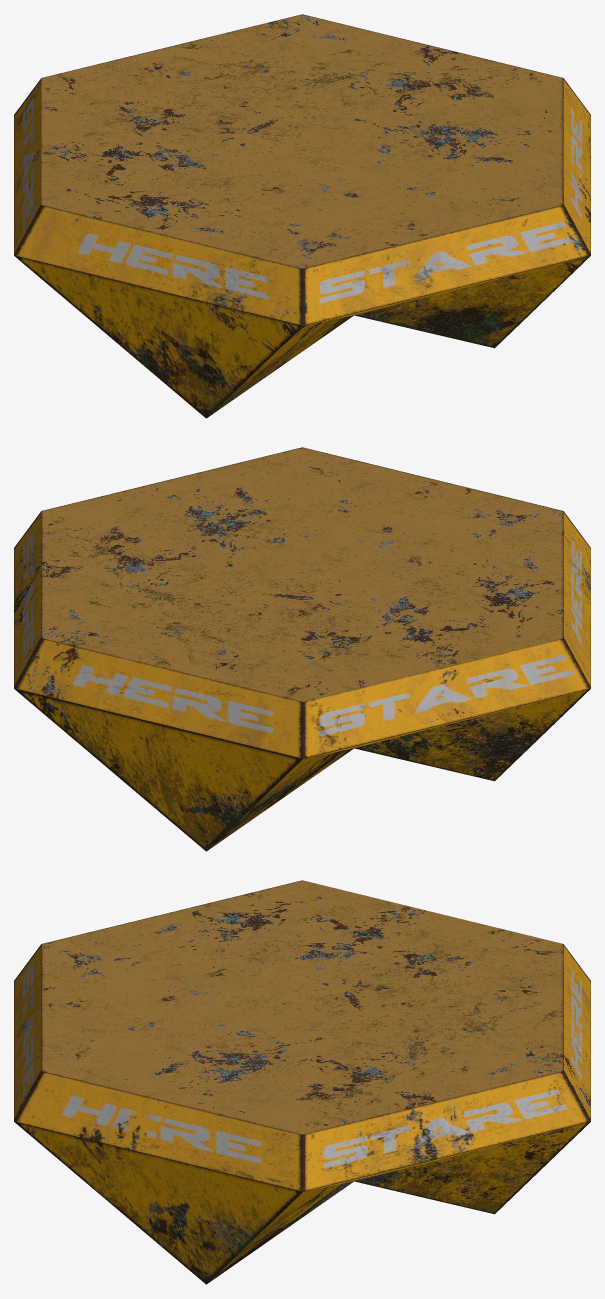
Rendered from TeleportGem2.gltf.
3 renders of one model, top to bottom at view 1: azimuth 30°, elevation 25°; view 2: azimuth 150°, elevation 25°; view 3: azimuth 270°, elevation 25°, orthographic.
Parts seen in each view (by area): view 1: Gem.001; view 2: Gem.001; view 3: Gem.001.
Part boxes in pixels (bbox=[...]): Gem.001: bbox=[14, 14, 590, 418]; Gem.001: bbox=[14, 447, 590, 851]; Gem.001: bbox=[14, 880, 590, 1284].
Bounding box in the file's own units: 0.94 × 0.3217 × 0.8141.
Materials: 1 (1 with a texture image).
